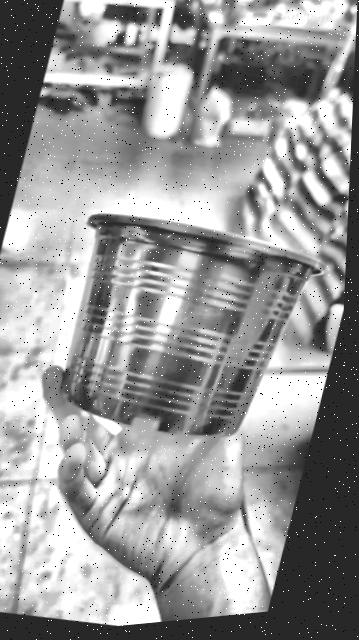pot: (60, 213, 323, 436)
